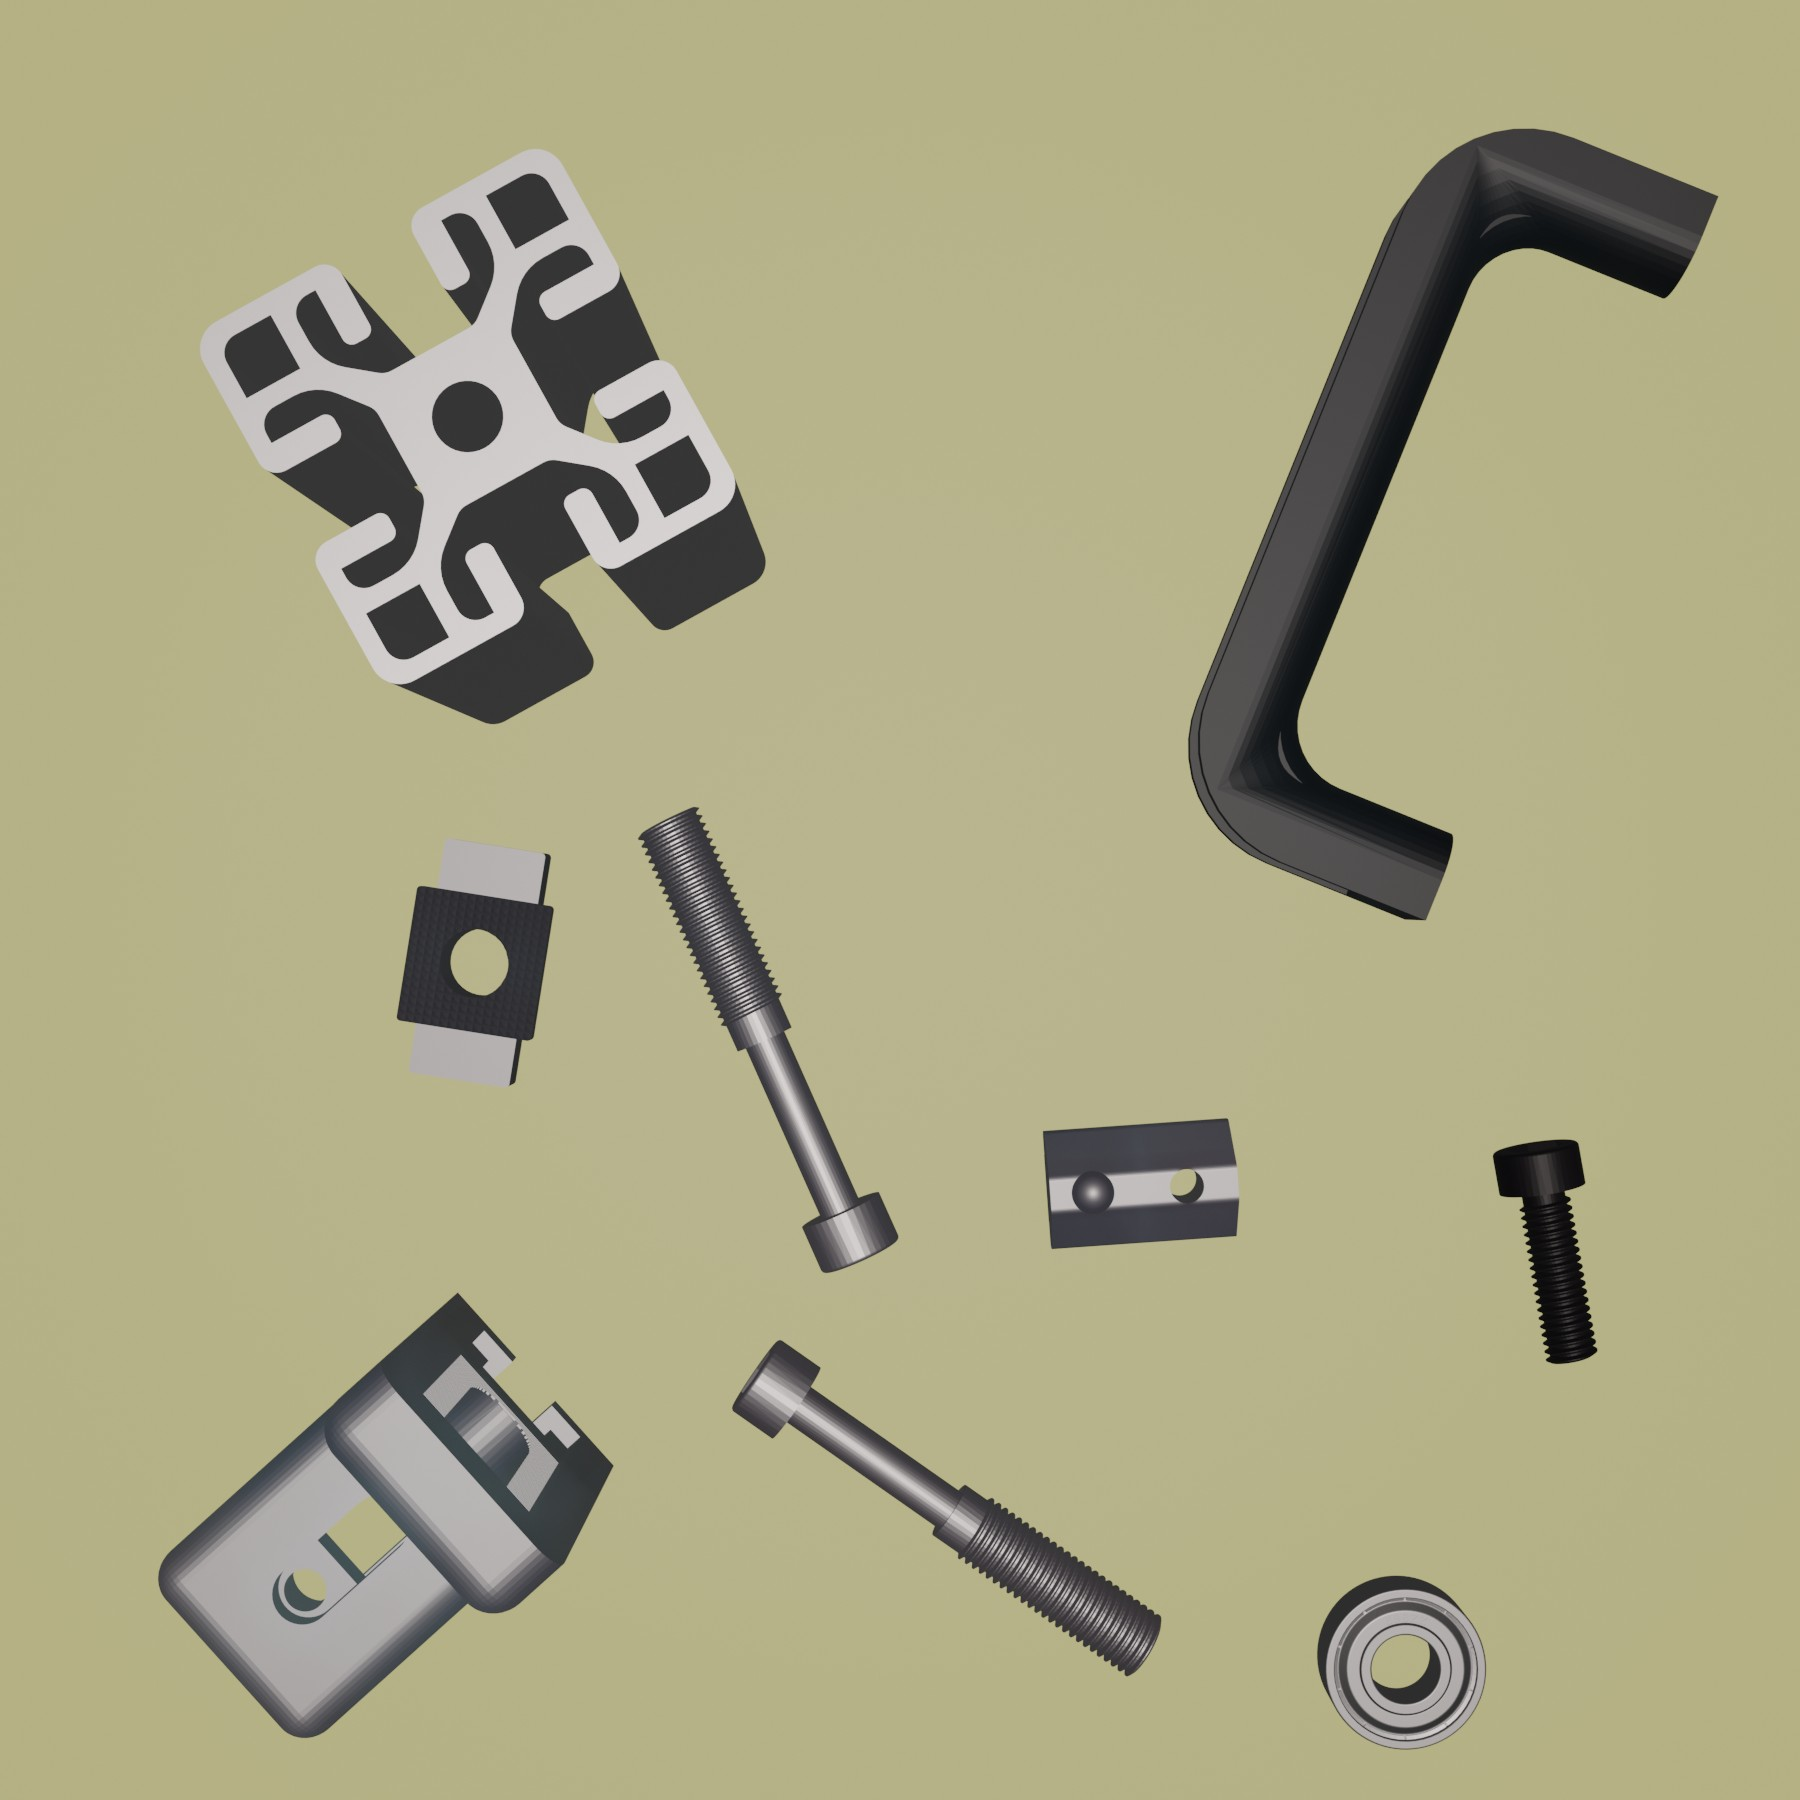Aluminium Extension: (198, 147, 766, 725)
Ball Bearing: (1312, 1569, 1488, 1754)
Multiwinkel: (157, 1289, 616, 1741)
Pull Handle: (1185, 124, 1721, 923)
Shoulder Socket Head Cap Screw: (727, 1334, 1164, 1680), (635, 804, 898, 1276)
Socket Head Cap Screw: (1488, 1136, 1601, 1368)
T Nut Square: (391, 836, 559, 1088)
T Spring Nut: (1038, 1116, 1243, 1254)
